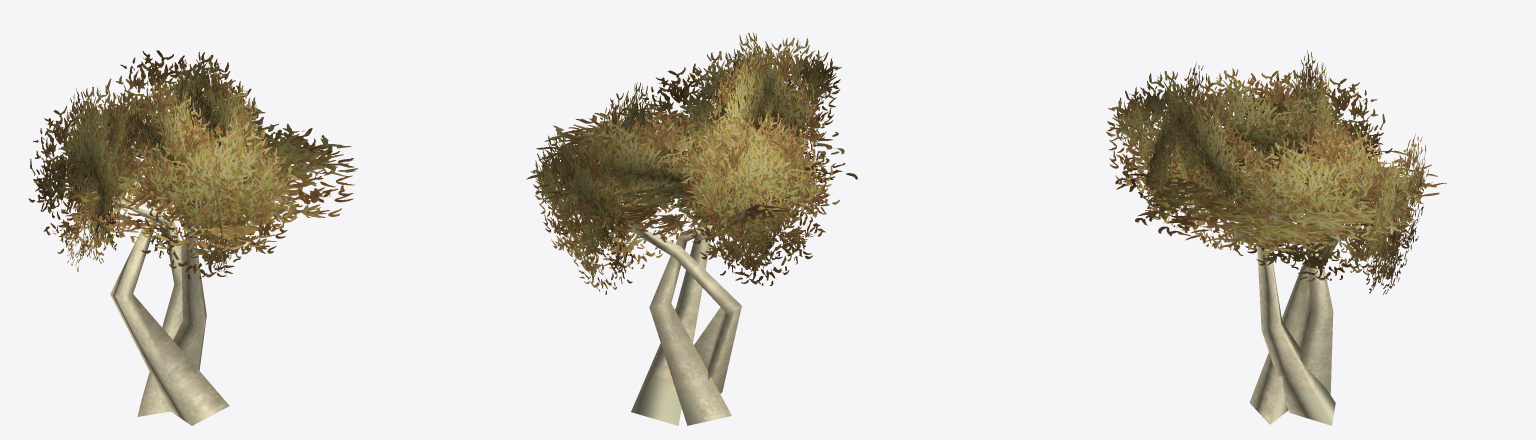
Rendered from decd_windswept_a3_l3.fbx.
The picture shows the model from 3 angles, left to right: view 1: azimuth 30°, elevation 25°; view 2: azimuth 150°, elevation 25°; view 3: azimuth 270°, elevation 25°; orthographic projection. The views are drawn at different scales.
Parts seen in each view (by area): view 1: mesh_node; view 2: mesh_node; view 3: mesh_node.
Boxes of the visible parts, x1,y1,x2,y2 form: mesh_node: (28, 50, 357, 425); mesh_node: (526, 32, 857, 425); mesh_node: (1106, 50, 1446, 425).
Size of the model in its own units: 8.43 by 6.45 by 8.81.
2 materials, 2 textured.
